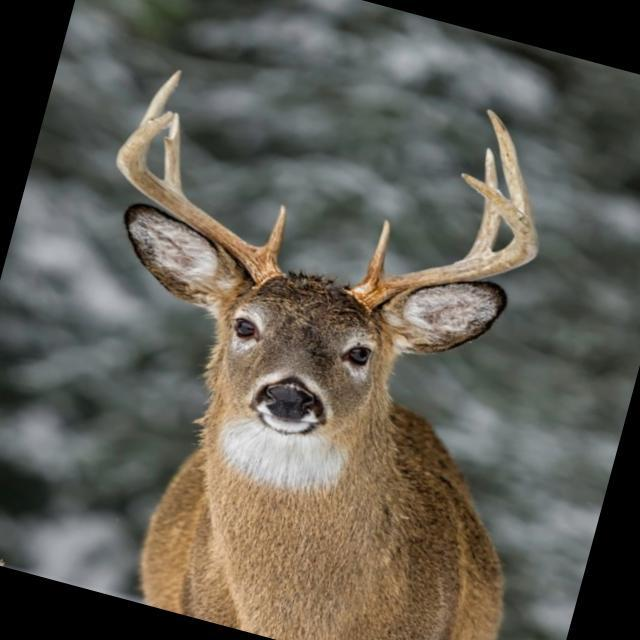L-F: (352, 172, 538, 308)
L-G1: (363, 218, 391, 282)
R-F: (114, 109, 280, 283)
R-G1: (263, 204, 286, 255)
R-G2: (163, 113, 182, 195)
